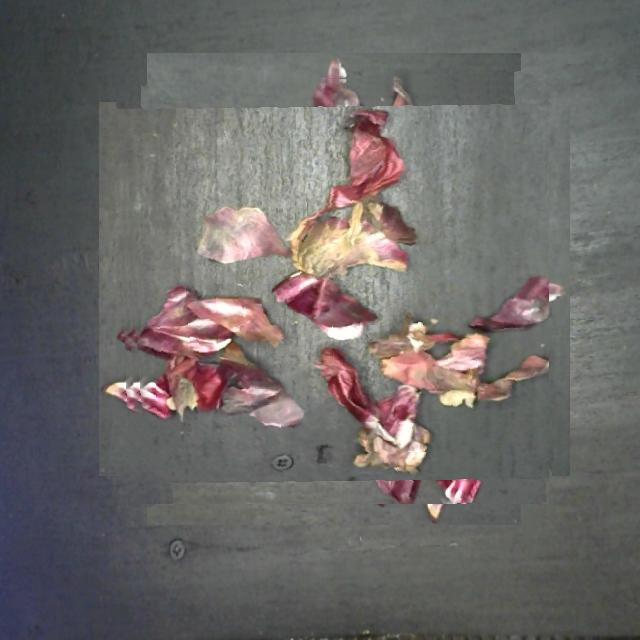biodegradable: (119, 74, 549, 504)
